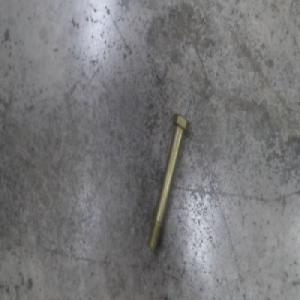Bolt: (147, 111, 189, 253)
